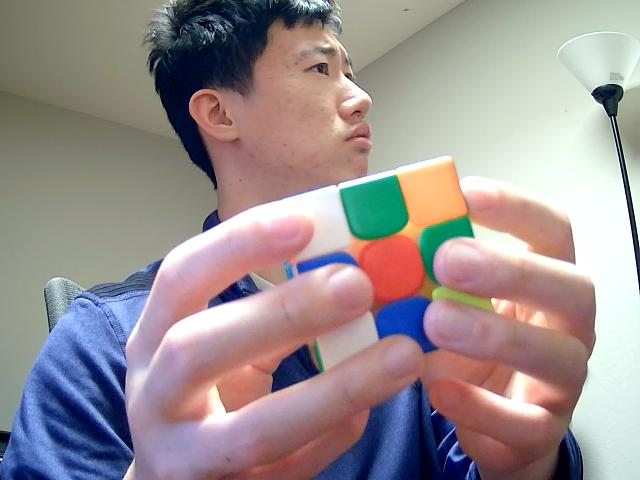Rubiks-Cube: (262, 150, 500, 378)
